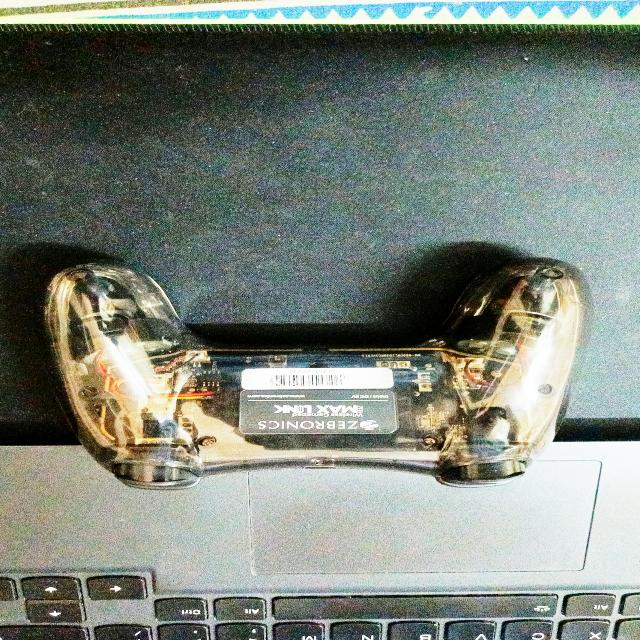gamepad: (42, 258, 585, 492)
